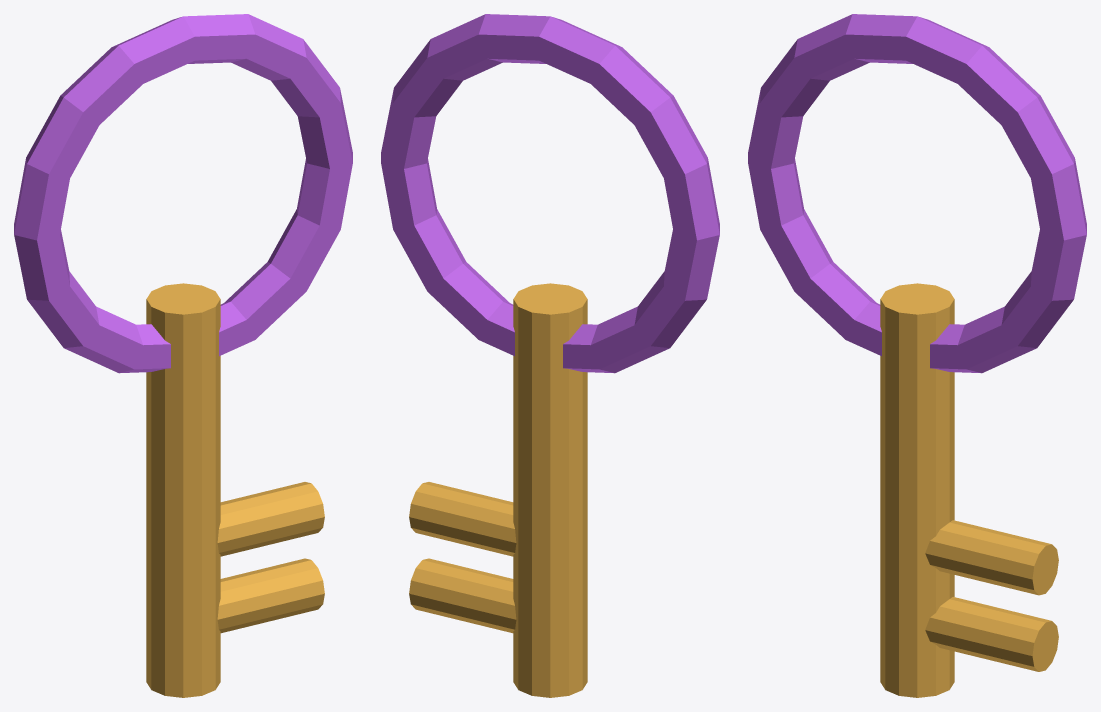
The model's file is rift-key-1.glb.
3 views of the same model, side by side, from view 1: azimuth 30°, elevation 25°; view 2: azimuth 150°, elevation 25°; view 3: azimuth 330°, elevation 25° (orthographic).
Parts seen in each view (by area): view 1: Torus.007, Cylinder, Cylinder.001, Cylinder.002; view 2: Torus.007, Cylinder, Cylinder.001, Cylinder.002; view 3: Torus.007, Cylinder, Cylinder.001, Cylinder.002.
Part boxes in pixels (left/top/right/bottom): Torus.007: left=14, top=14, right=352, bottom=373; Cylinder: left=146, top=283, right=220, bottom=697; Cylinder.001: left=217, top=558, right=324, bottom=633; Cylinder.002: left=217, top=482, right=324, bottom=556; Torus.007: left=381, top=14, right=719, bottom=373; Cylinder: left=513, top=283, right=587, bottom=697; Cylinder.001: left=409, top=558, right=516, bottom=633; Cylinder.002: left=409, top=482, right=516, bottom=556; Torus.007: left=748, top=14, right=1086, bottom=373; Cylinder: left=880, top=283, right=954, bottom=697; Cylinder.001: left=925, top=597, right=1058, bottom=671; Cylinder.002: left=925, top=520, right=1058, bottom=595.
Size of the model in its own units: 0.37 by 0.695 by 0.07.
